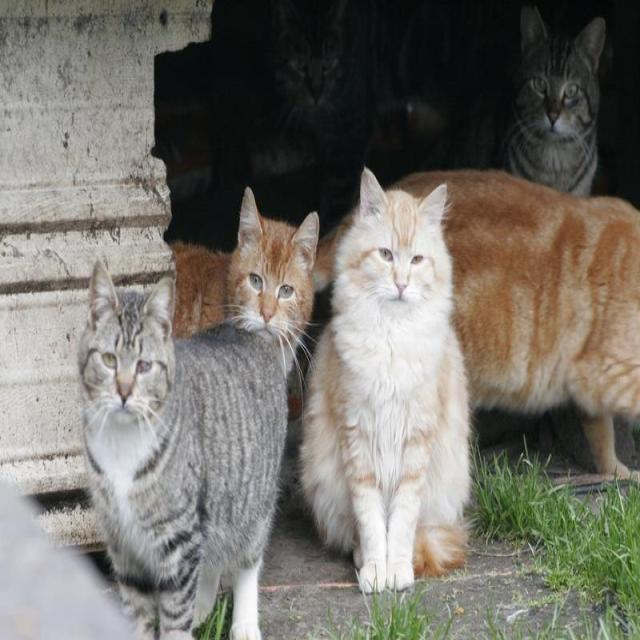cat: (79, 263, 286, 638), (396, 171, 640, 476), (301, 169, 470, 593), (171, 188, 319, 371), (271, 0, 372, 228), (506, 8, 605, 196)
